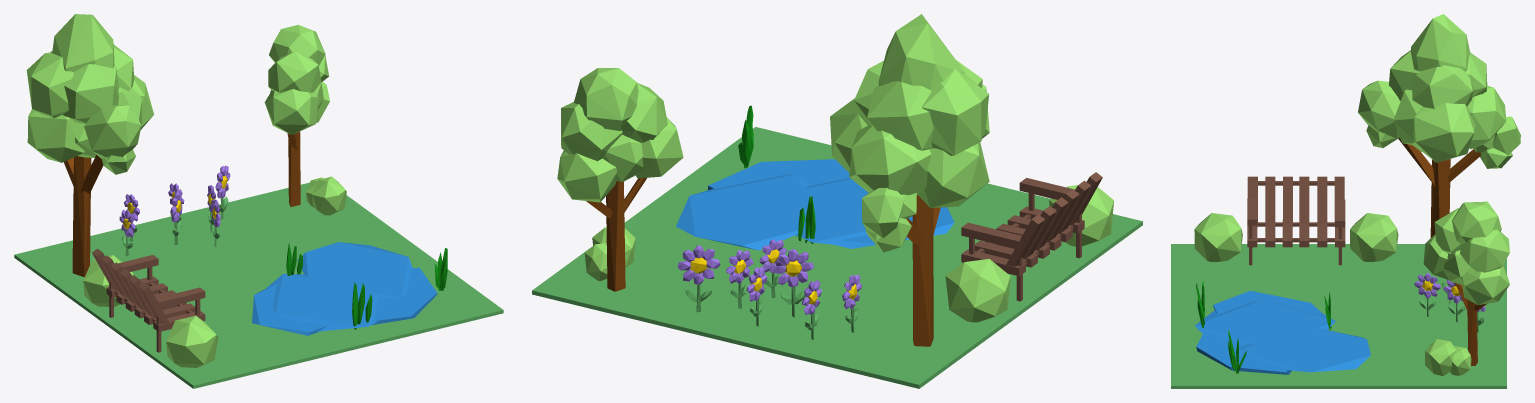
File: park.glb
3 renders of one model, left to right at view 1: azimuth 30°, elevation 25°; view 2: azimuth 150°, elevation 25°; view 3: azimuth 270°, elevation 25°, orthographic. The views are drawn at different scales.
Visible parts, largest first — view 1: Cube, Sphere.010, Cylinder.005, Sphere.072, Cube.014, Cylinder.001, Sphere.058, Sphere.068, Sphere.080, Sphere.067, Cylinder.008, Sphere.073 (+1 smaller); view 2: Cube, Sphere.010, Cylinder.005, Sphere.072, Cube.014, Sphere.058, Sphere.067, Cylinder.001, Cylinder.008, Sphere.068, Sphere.081, Sphere.076 (+2 smaller); view 3: Cube, Sphere.010, Cylinder.005, Sphere.072, Cube.014, Cylinder.001, Sphere.068, Sphere.067, Sphere.058, Sphere.080, Cylinder.008, Sphere.081 (+2 smaller).
Boxes of the visible parts, x1,y1,x2,y2 form: Cube: (14,182,503,388); Sphere.010: (26,14,153,174); Cylinder.005: (252,242,437,335); Sphere.072: (264,24,329,134); Cube.014: (92,248,205,352); Cylinder.001: (63,155,103,277); Sphere.058: (119,165,230,256); Sphere.068: (166,315,218,367); Sphere.080: (312,176,346,215); Sphere.067: (83,255,134,306); Cylinder.008: (287,131,300,206); Sphere.073: (286,242,372,329); Cube: (532,127,1142,388); Sphere.010: (830,14,989,252); Cylinder.005: (676,159,954,250); Sphere.072: (557,68,683,202); Cube.014: (961,172,1102,301); Sphere.058: (677,239,861,339); Sphere.067: (945,259,1010,322); Cylinder.001: (906,195,940,346); Cylinder.008: (586,177,646,291); Sphere.068: (1049,185,1113,246); Sphere.081: (584,243,607,280); Sphere.076: (738,105,753,168); Cube: (1171,244,1506,388); Sphere.010: (1358,14,1520,168); Cylinder.005: (1195,290,1370,374); Sphere.072: (1423,201,1509,305); Cube.014: (1247,176,1345,265); Cylinder.001: (1398,138,1481,237); Sphere.068: (1194,213,1242,261); Sphere.067: (1350,213,1398,261); Sphere.058: (1414,273,1485,332); Sphere.080: (1425,339,1455,375); Cylinder.008: (1455,283,1486,365); Sphere.081: (1450,346,1471,375).
Bounding box in the file's own units: 2.11 × 1.64 × 2.08.
